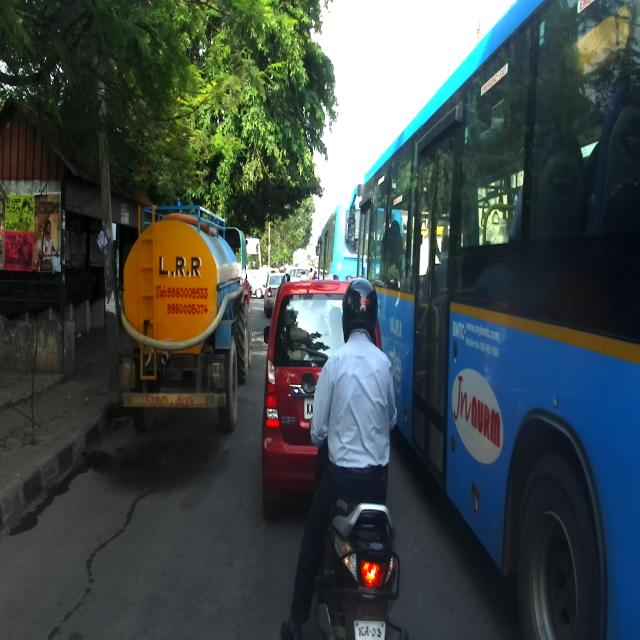bus ahead at: (380, 0, 640, 631)
motorcycle ahead at: (319, 490, 408, 640)
truck ahead at: (118, 196, 254, 440)
